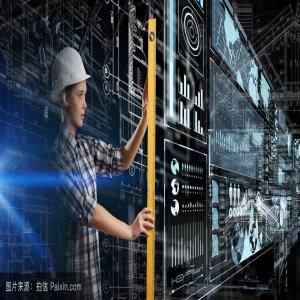white: (51, 48, 89, 132)
